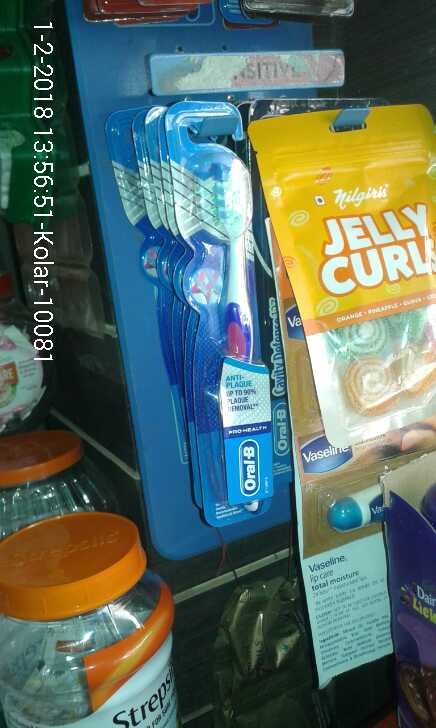oralb: (136, 137, 286, 501)
